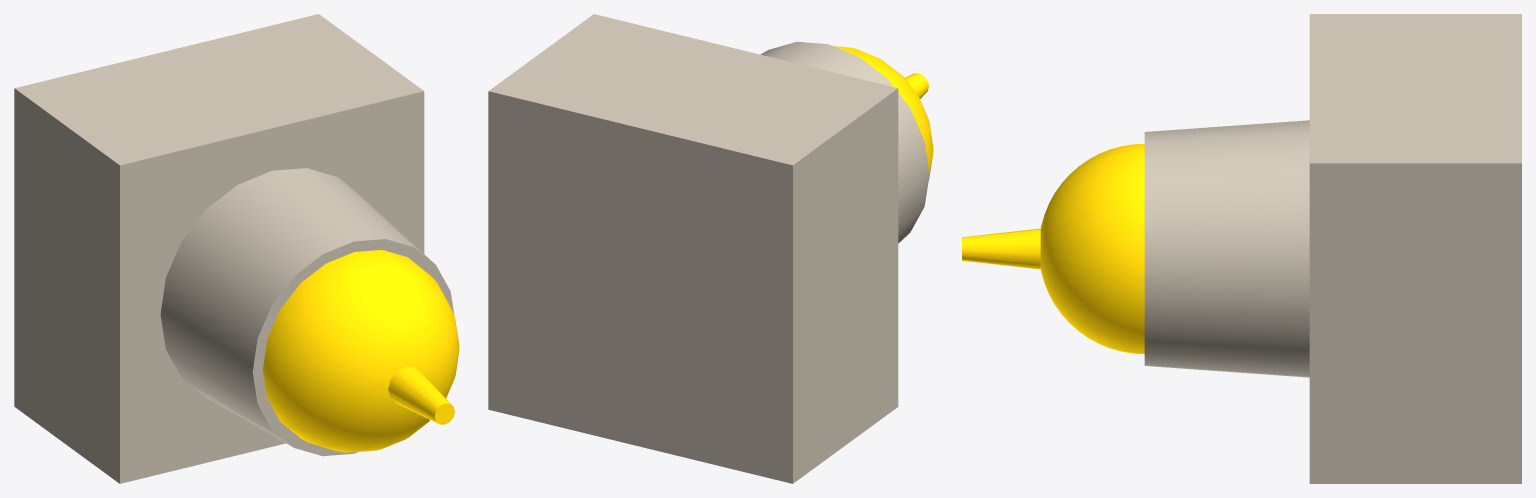
The model's file is invalides.glb.
3 views of the same model, side by side, from view 1: azimuth 30°, elevation 25°; view 2: azimuth 150°, elevation 25°; view 3: azimuth 270°, elevation 25° (orthographic).
Visible parts, largest first — view 1: Invalides; view 2: Invalides; view 3: Invalides.
Part boxes in pixels (<box>): Invalides: <box>14,14,459,483</box>; Invalides: <box>488,14,933,483</box>; Invalides: <box>962,14,1521,483</box>.
Size of the model in its own units: 60 by 60 by 95.
